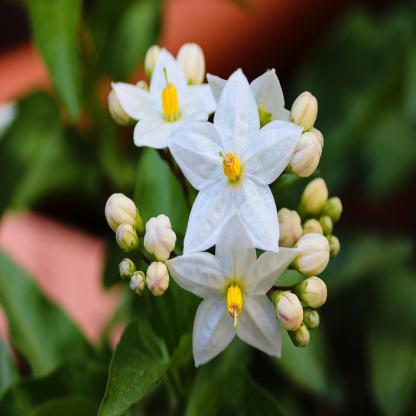Melati: (177, 65, 314, 276), (108, 18, 220, 160), (182, 240, 302, 370), (102, 180, 187, 317), (284, 173, 351, 327), (296, 63, 335, 180)
